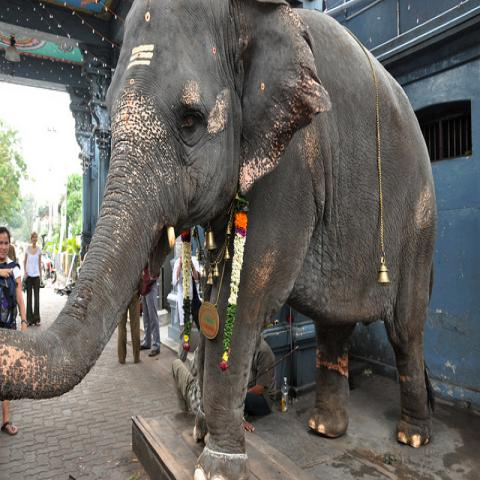motorcycle: (40, 250, 57, 288)
